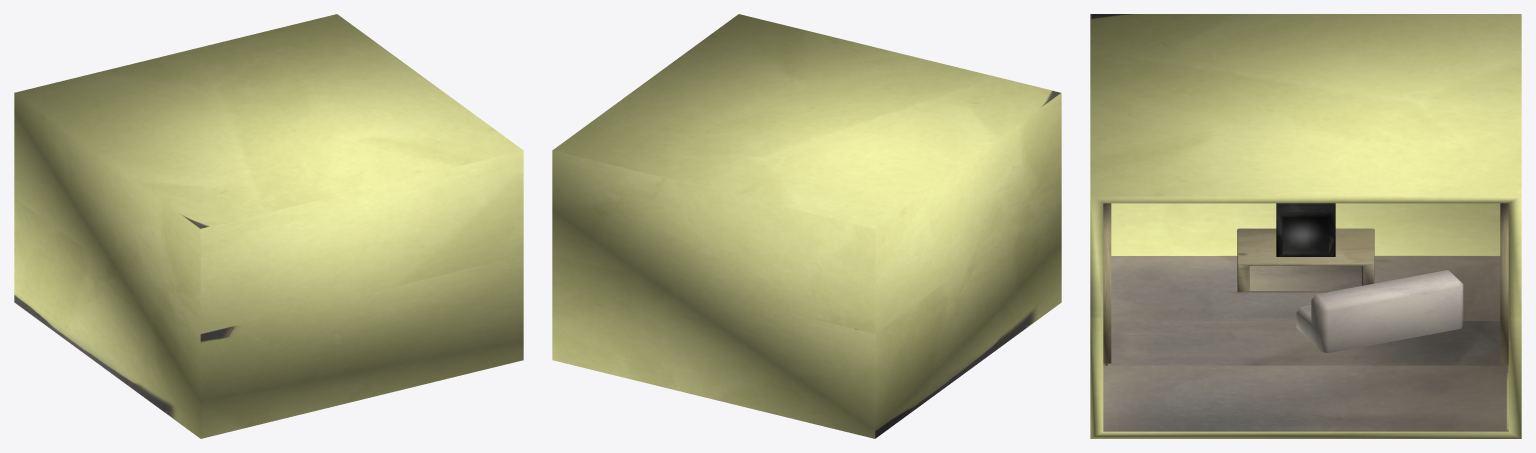
The model's file is domek.fbx.
3 renders of one model, left to right at view 1: azimuth 30°, elevation 25°; view 2: azimuth 150°, elevation 25°; view 3: azimuth 270°, elevation 25°, orthographic. The views are drawn at different scales.
Visible parts, largest first — view 1: room; view 2: room; view 3: room, kanapa, stolik, TV, Cube, Cube.001.
Part boxes in pixels (left/top/right/bottom): room: left=14, top=14, right=523, bottom=438; room: left=552, top=14, right=1061, bottom=438; room: left=1090, top=14, right=1521, bottom=438; kanapa: left=1296, top=270, right=1463, bottom=353; stolik: left=1237, top=228, right=1374, bottom=292; TV: left=1276, top=203, right=1335, bottom=256; Cube: left=1103, top=203, right=1111, bottom=363; Cube.001: left=1500, top=203, right=1508, bottom=363.
Size of the model in its own units: 789 by 491 by 789.
Materials: 6 (6 with a texture image).
